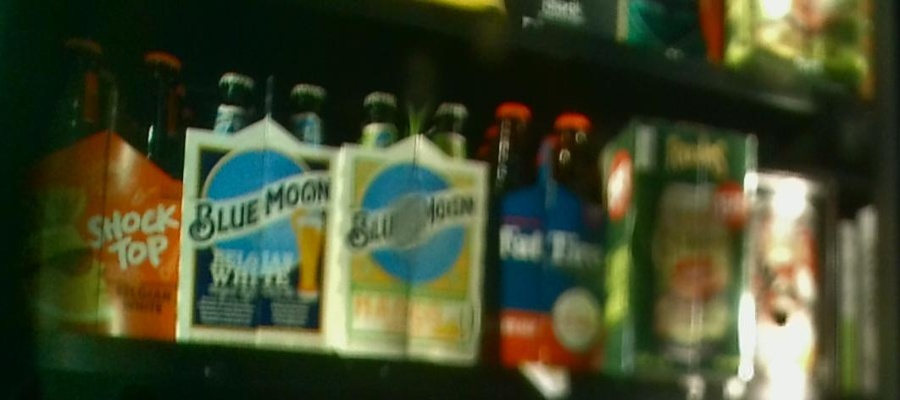bottle: (13, 34, 184, 343), (175, 69, 336, 344), (335, 87, 490, 355), (610, 117, 753, 385), (491, 102, 608, 365), (750, 169, 846, 391)
